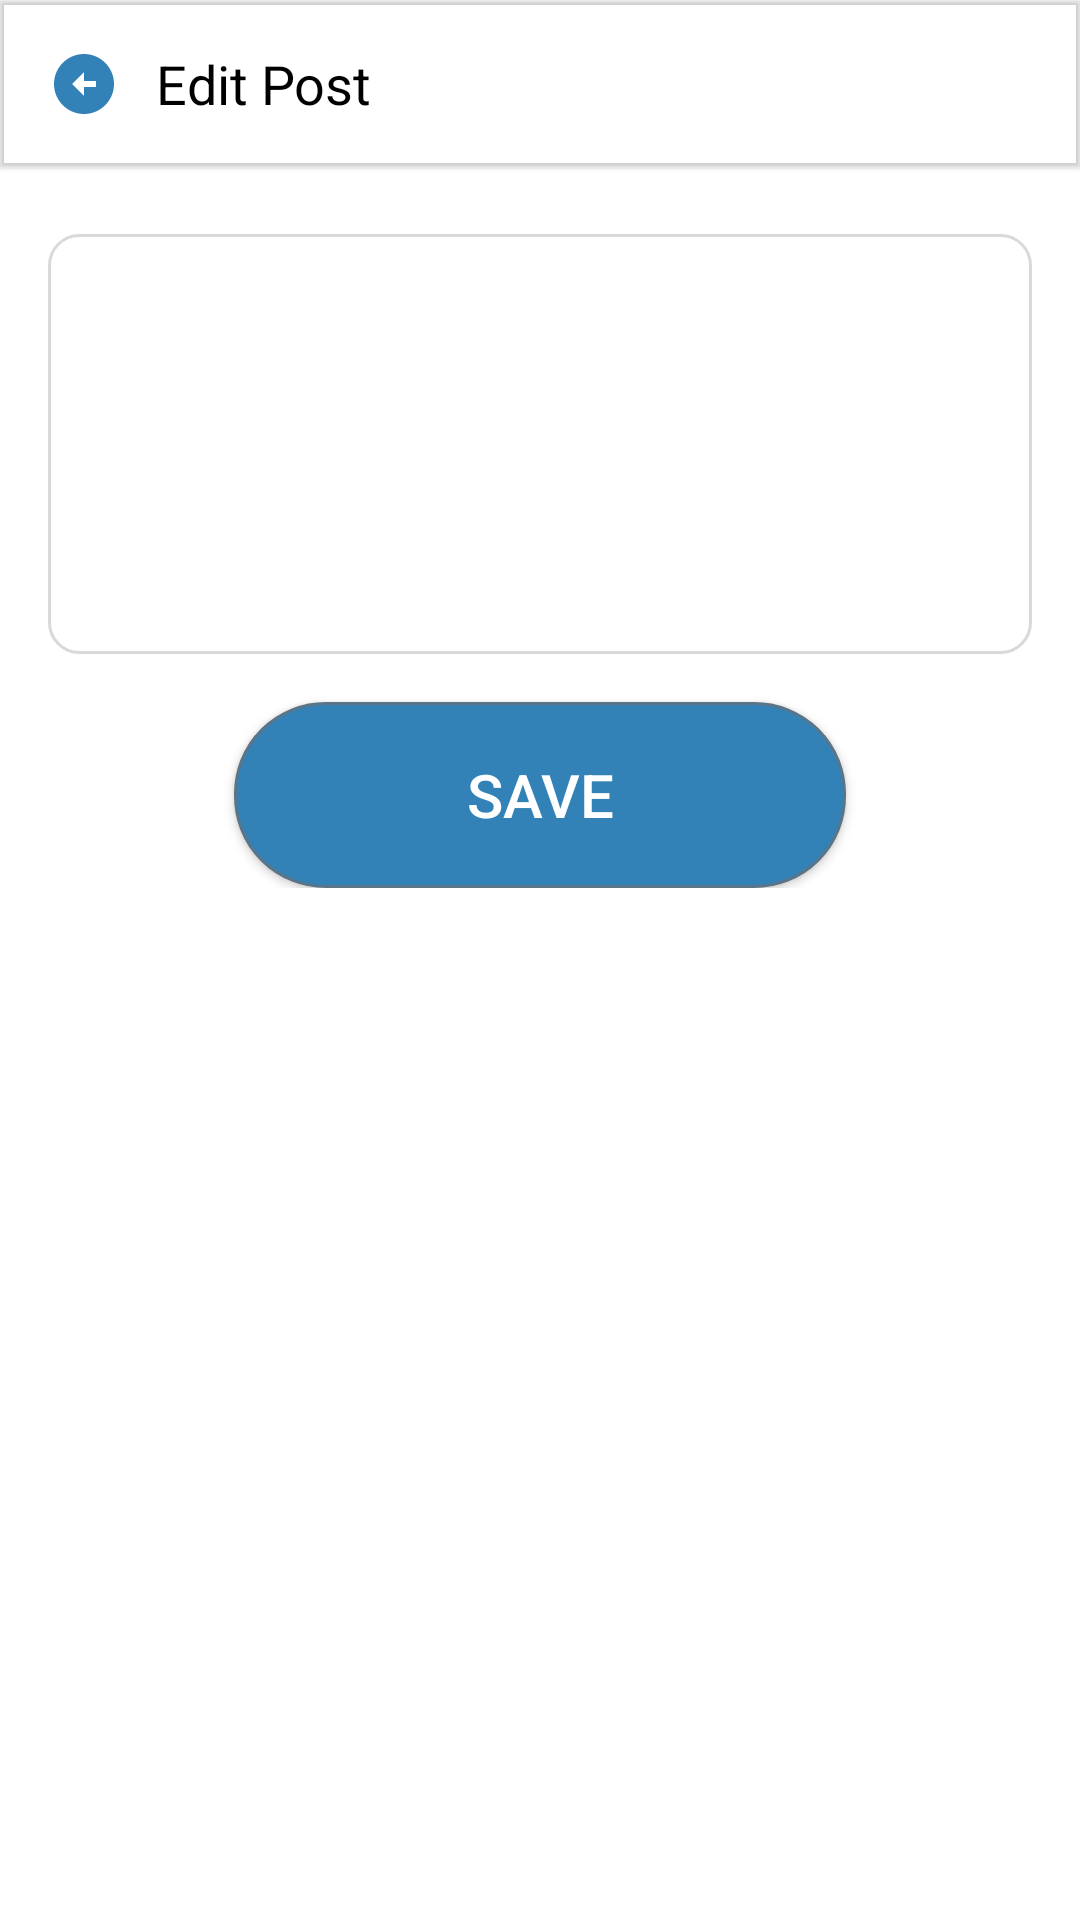

Screen size 1080w x 1920h. Icon name, then its box in pixels as bbox(x1, y1, x2, y2):
arrow circle left: bbox(54, 54, 114, 114)
